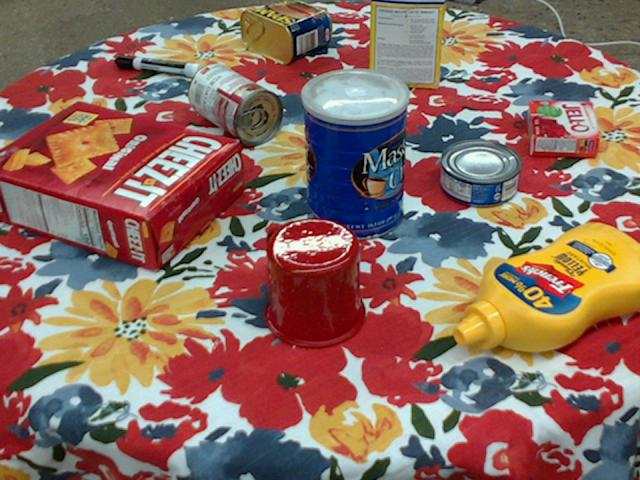cracker_box: (0, 101, 244, 269)
gelatin_box: (527, 101, 598, 159)
large_marker: (116, 54, 202, 77)
master_chef_can: (301, 68, 409, 241)
mug: (263, 217, 366, 349)
mustard_bottle: (455, 219, 639, 350)
potted_meat_can: (241, 0, 332, 63)
sugar_box: (368, 0, 446, 89)
tomato_soup_can: (187, 63, 283, 145)
tuna_fish_can: (441, 140, 523, 207)
